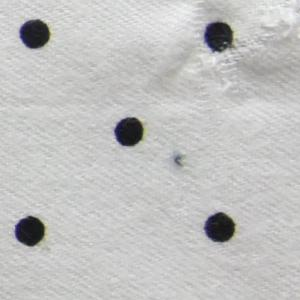Damage: (190, 1, 300, 73)
Stain: (172, 151, 187, 174)
